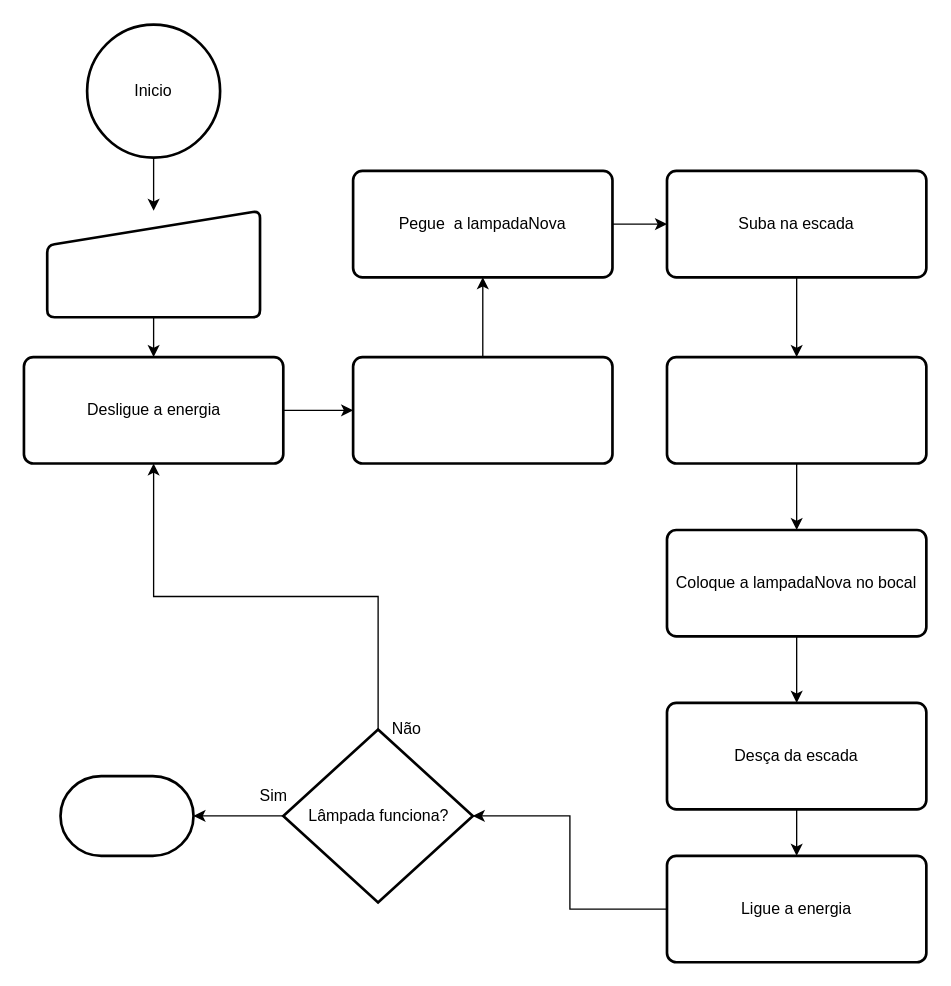
Image size: 951x986. Some labels were removed from this diagram. Here are the shapes that lost their labels. From the top down, the centre of each, then its label:
At (x=153, y=263): "lampadaNova, escada".
At (x=482, y=409): "Coloque a escada abaixo da lâmpada a ser trocada".
At (x=796, y=409): "Tire a lampadaVelha".
At (x=126, y=815): "Fim".
